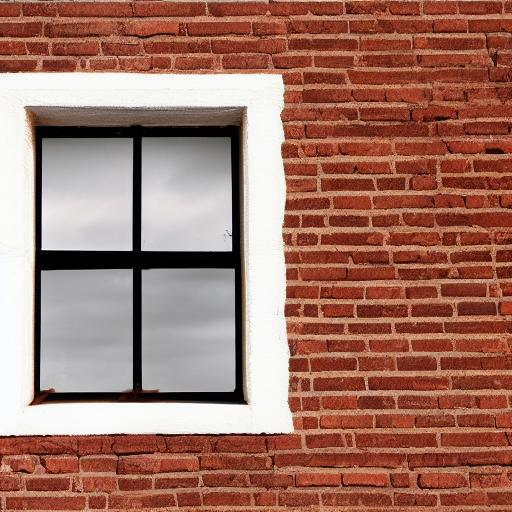Window: (0, 70, 298, 437)
